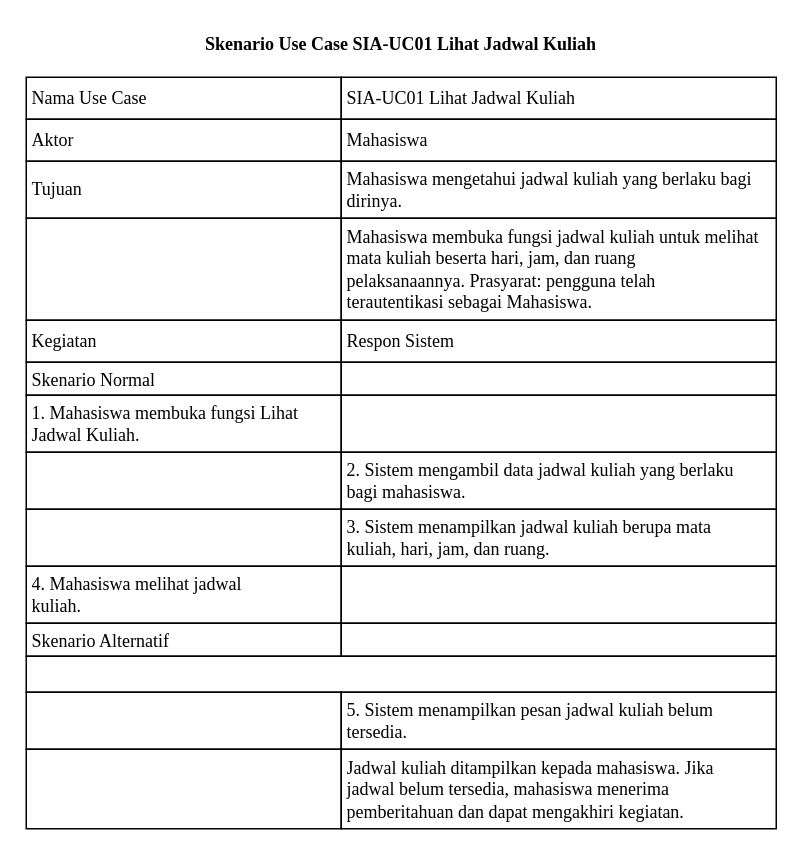
This 803x855 diagram has some shape labels left out. The centre of each missing label's shape, as x and y in pixels:
"Cabang dari langkah 2: jadwal kuliah belum tersedia." belongs at point (400, 673).
"Deskripsi" belongs at point (183, 268).
"Skenario Akhir" belongs at point (183, 788).
